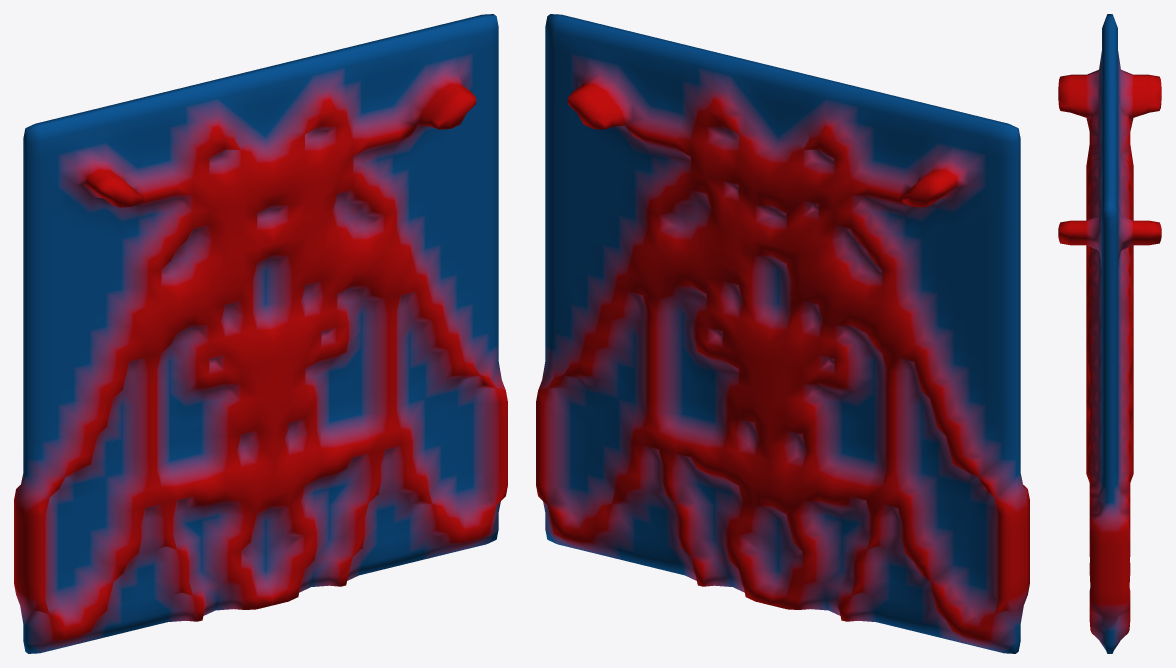
3 renders of one model, left to right at view 1: azimuth 30°, elevation 25°; view 2: azimuth 150°, elevation 25°; view 3: azimuth 270°, elevation 25°, orthographic. The views are drawn at different scales.
Size of the model in its own units: 1.5 by 1.59 by 0.33.
